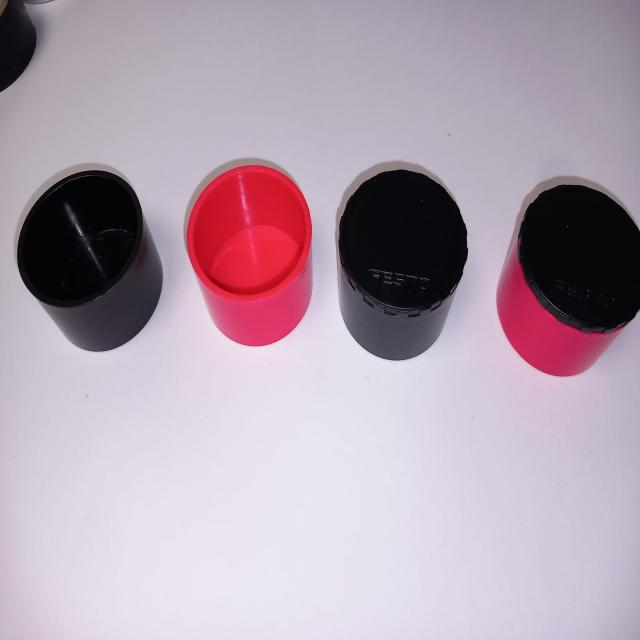NoLid: (6, 159, 170, 369), (185, 151, 321, 362)
Workpiece: (499, 147, 639, 389), (336, 147, 471, 386)
